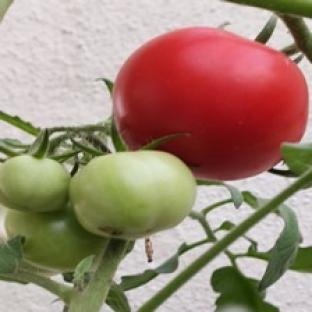Tomato: (113, 27, 307, 179), (70, 151, 196, 239), (5, 205, 104, 272), (0, 155, 71, 211)
